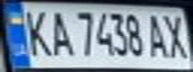3: (109, 9, 130, 57)
4: (90, 8, 112, 57)
7: (69, 8, 97, 56)
8: (124, 10, 145, 58)
A: (42, 7, 72, 57), (145, 10, 172, 60)
K: (18, 6, 54, 58)
X: (160, 11, 193, 60)
